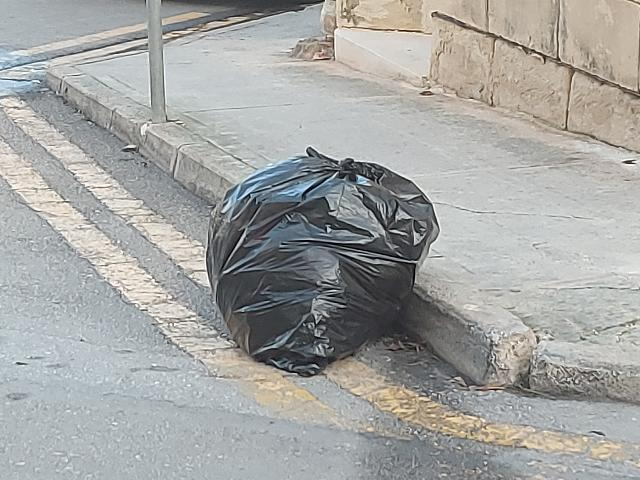Mixed -Black-: (206, 147, 439, 376)
